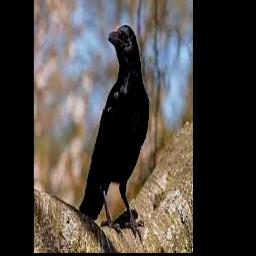Crow: (79, 25, 149, 238)
